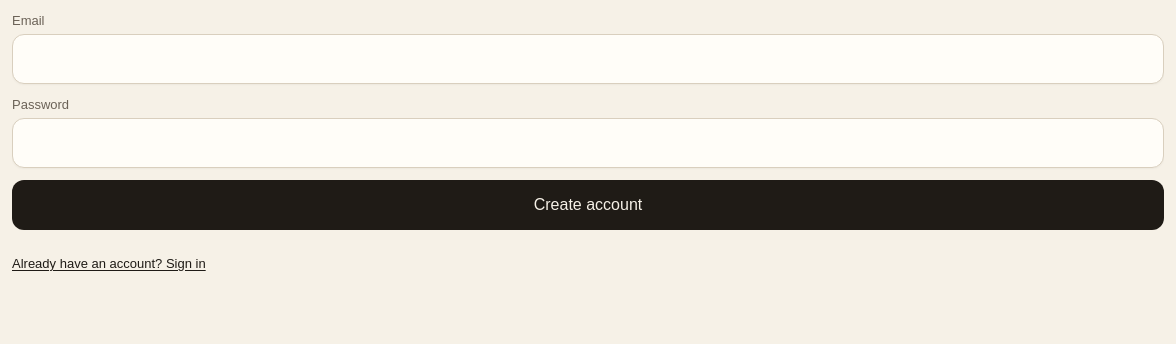
it: toggling to sign-in switches forms locally, without navigating
expect the button "Create account" is shown: met, box 12,180 -> 1164,230
Click the button "Already have an account? Sign in" at (109, 264), box 12,242 -> 206,286
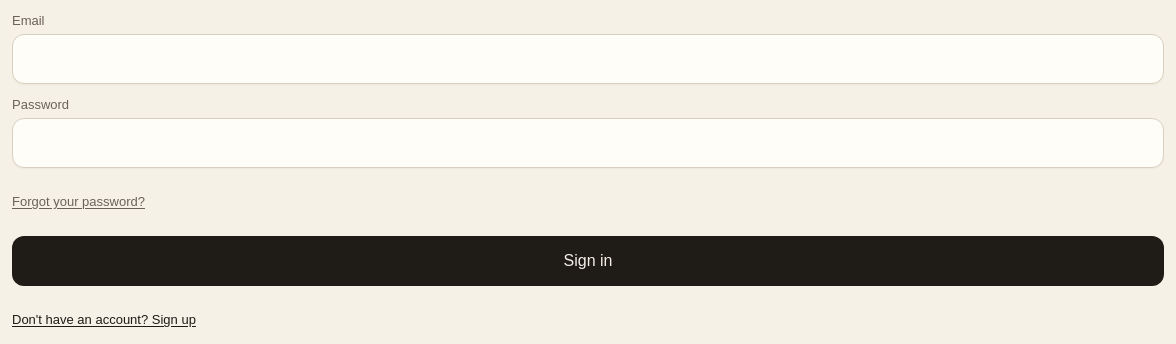
expect the button "Sign in" is shown: met, box 12,236 -> 1164,286
expect the button "Create account" is gone: met
